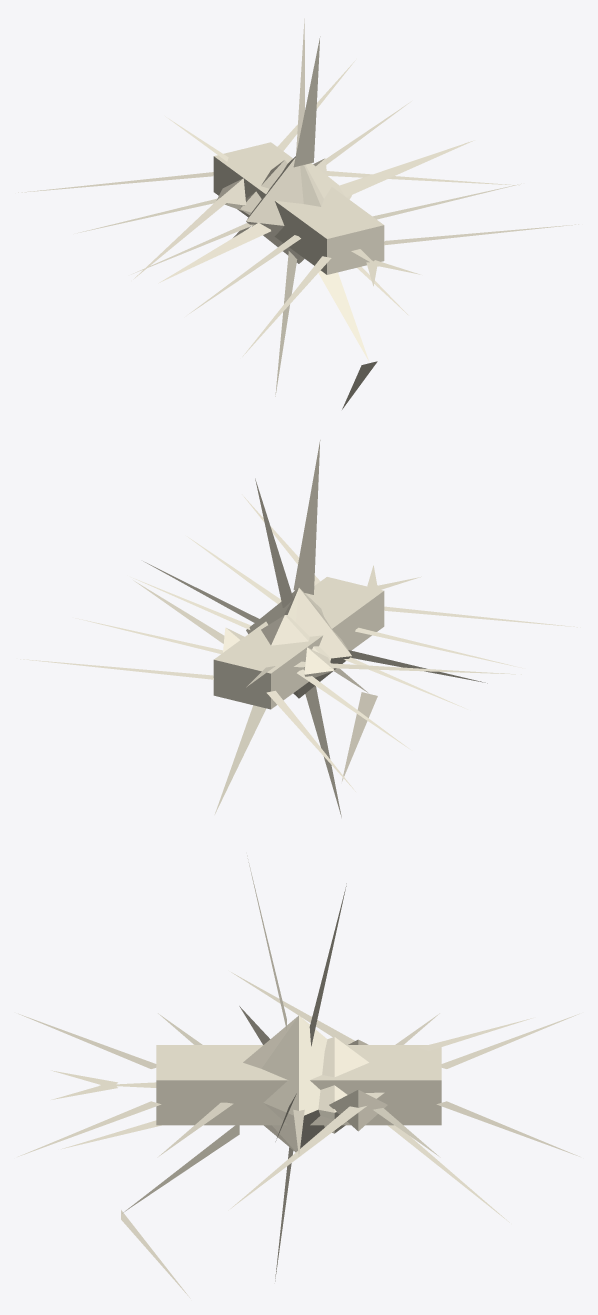
File: plankton_specks.glb
3 views of the same model, one above another, from view 1: azimuth 30°, elevation 25°; view 2: azimuth 150°, elevation 25°; view 3: azimuth 270°, elevation 25° (orthographic). The views are drawn at different scales.
Parts seen in each view (by area): view 1: plankton_specks; view 2: plankton_specks; view 3: plankton_specks.
Part boxes in pixels (x1=…): plankton_specks: x1=18, y1=18, x2=578, y2=409; plankton_specks: x1=20, y1=440, x2=580, y2=817; plankton_specks: x1=18, y1=855, x2=579, y2=1298.
Size of the model in its own units: 0.0096 by 0.0085 by 0.0096.
